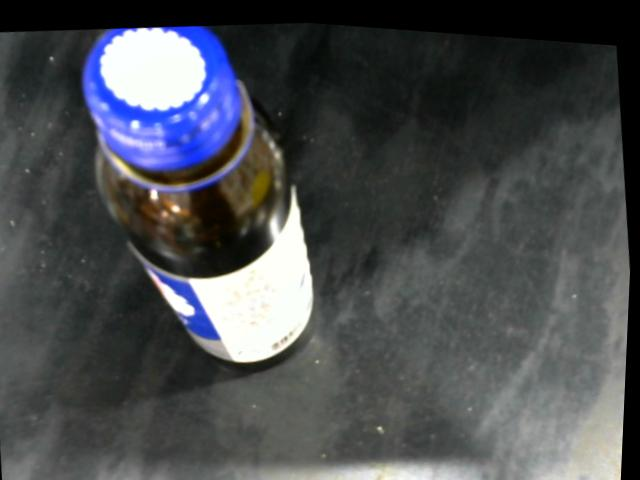glass: (81, 23, 336, 371)
